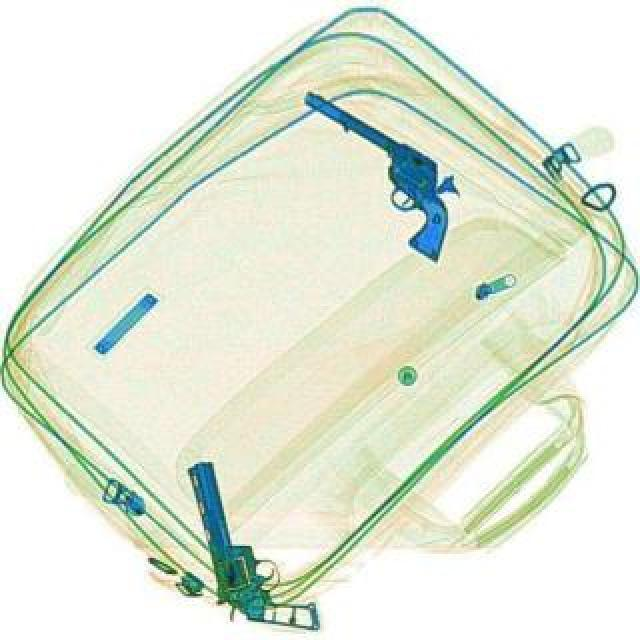gun: (256, 86, 484, 262), (186, 446, 320, 638)
